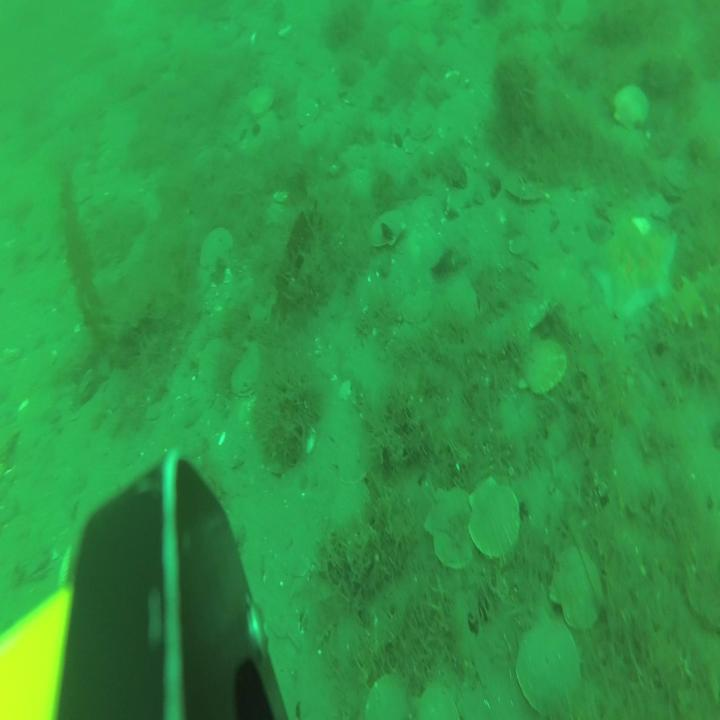holothurian: (642, 262, 720, 346)
scallop: (516, 625, 583, 711), (468, 476, 522, 563), (426, 485, 478, 572), (552, 546, 605, 631), (520, 333, 566, 398), (430, 92, 476, 156), (613, 82, 650, 138), (366, 208, 408, 255), (447, 275, 481, 332), (200, 226, 238, 277), (365, 678, 409, 720), (230, 345, 266, 394), (418, 683, 462, 720), (505, 169, 544, 205), (104, 369, 131, 415), (410, 105, 439, 144), (557, 0, 588, 36), (248, 86, 276, 123), (348, 170, 374, 206), (298, 97, 322, 132), (391, 25, 412, 54)
starfish: (587, 208, 677, 329)
